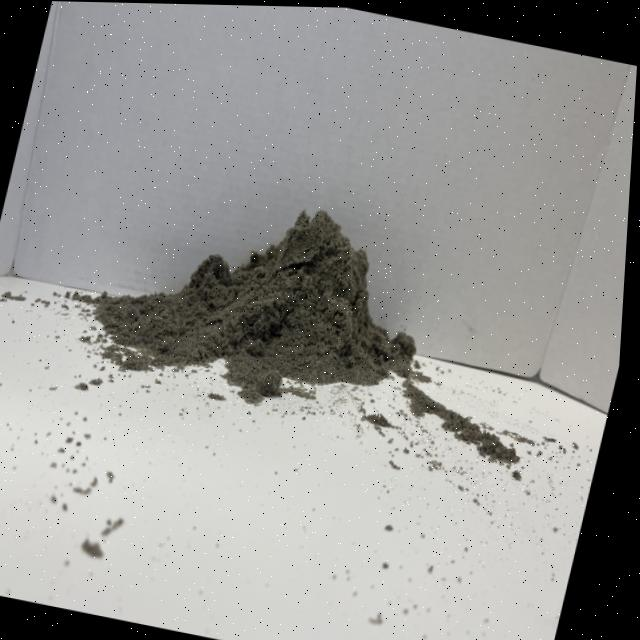sand: (59, 154, 467, 443)
